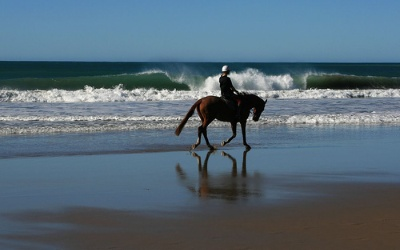person: (219, 65, 241, 109)
